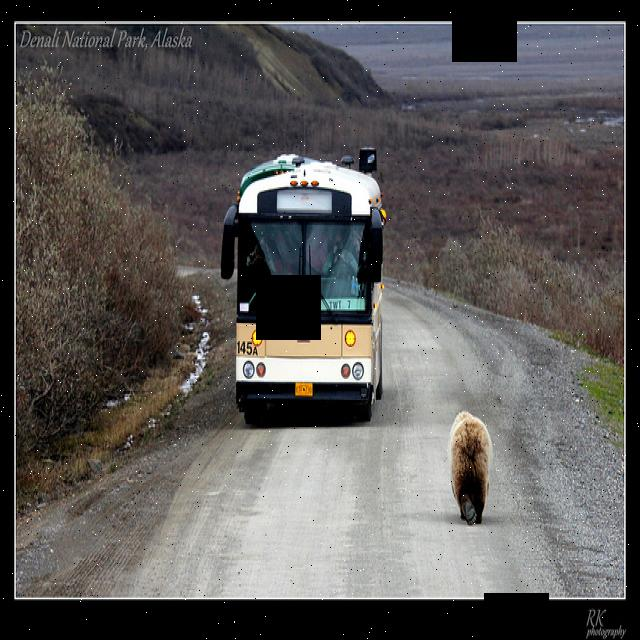Bear: (440, 404, 501, 540)
